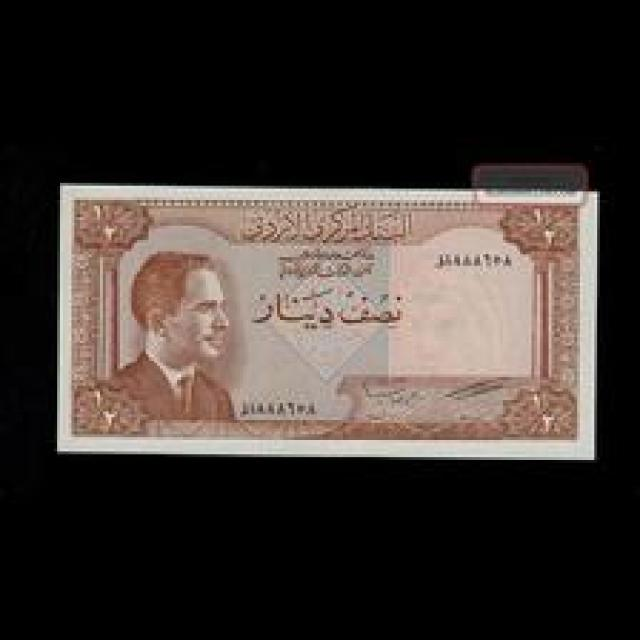banknote: (54, 180, 597, 457)
